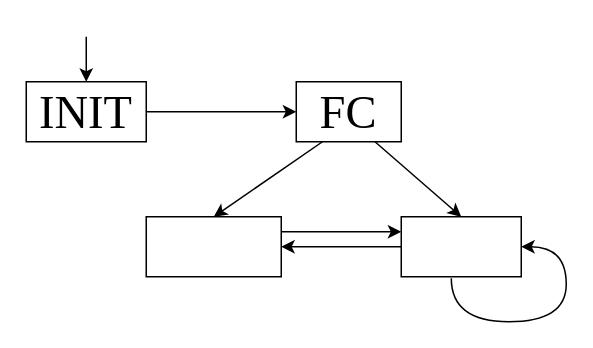
Some shapes in this 593 by 348 pixel diagram are drawn without their labels. The shapes that lost their labels are listed below. From the top down, each one's centre as x and y in pixels, then its label:
pixel 213 246: UPDT
pixel 460 246: NXT
